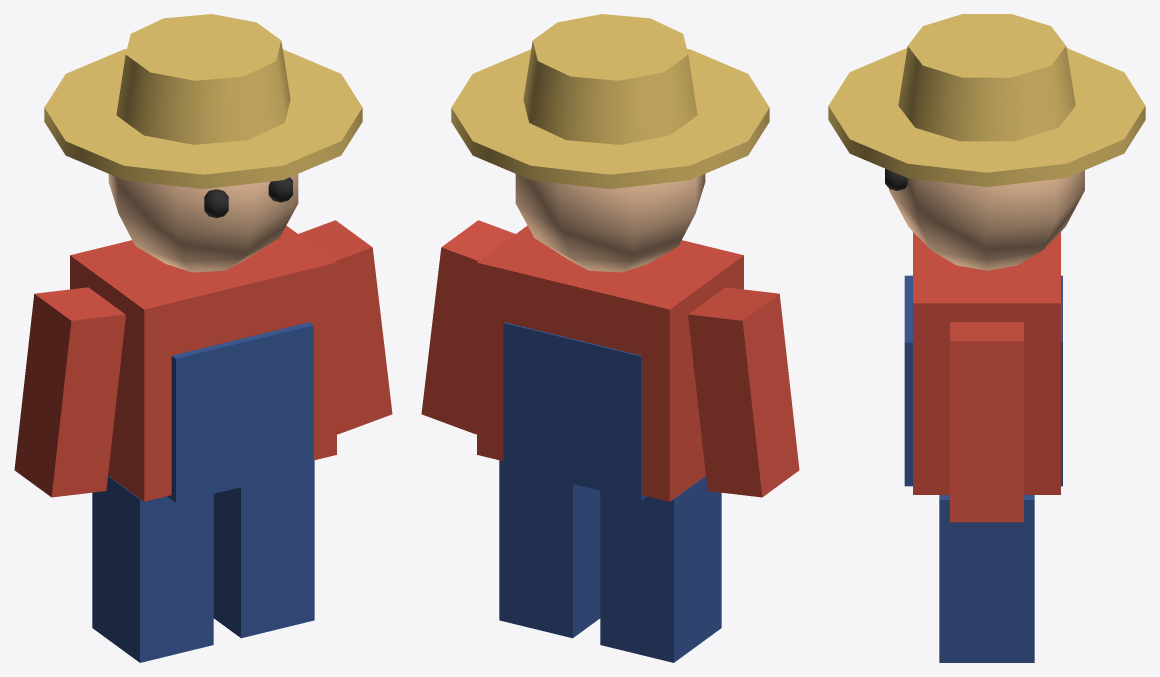
The model's file is human.glb.
3 renders of one model, left to right at view 1: azimuth 30°, elevation 25°; view 2: azimuth 150°, elevation 25°; view 3: azimuth 270°, elevation 25°, orthographic.
Parts seen in each view (by area): view 1: rig; view 2: rig; view 3: rig.
Part boxes in pixels (left/top/right/bottom): rig: left=14, top=14, right=392, bottom=662; rig: left=421, top=14, right=799, bottom=662; rig: left=828, top=14, right=1145, bottom=662.
Bounding box in the file's own units: 0.7422 × 1.2 × 0.6.
